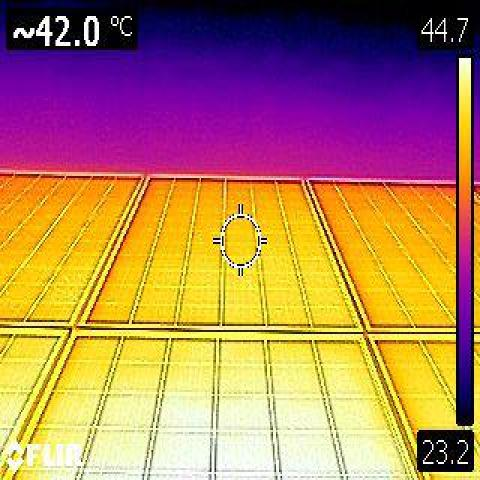fault: (92, 389, 370, 480)
